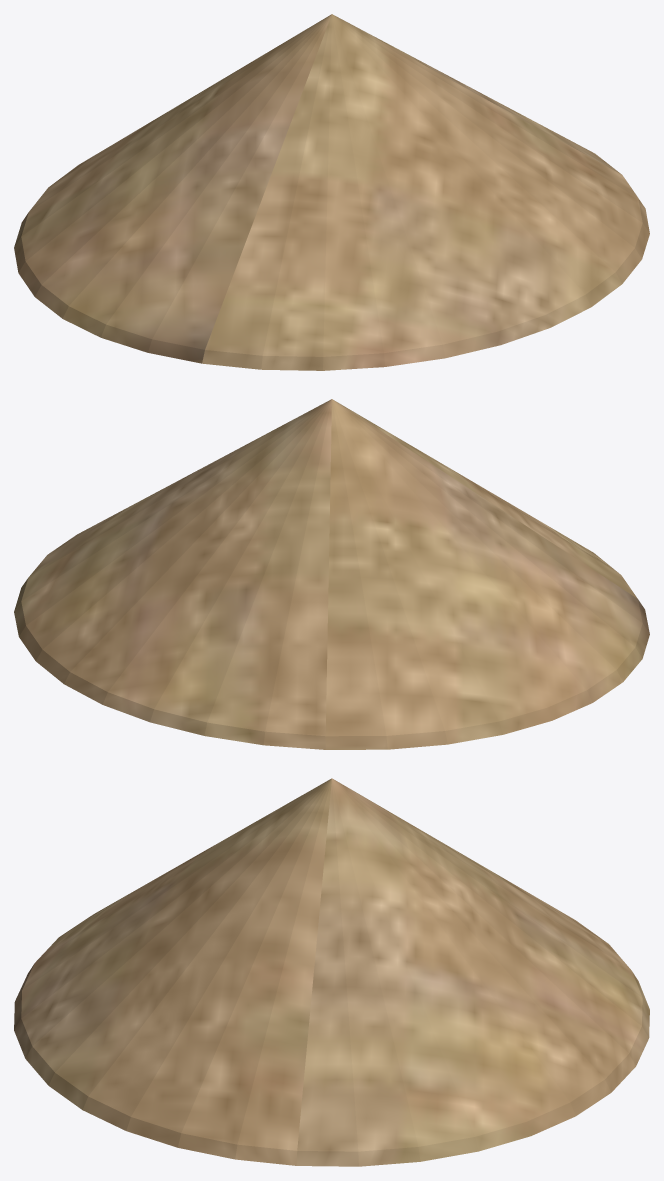
Rendered from capil.fbx.
3 renders of one model, top to bottom at view 1: azimuth 30°, elevation 25°; view 2: azimuth 150°, elevation 25°; view 3: azimuth 270°, elevation 25°, orthographic. The views are drawn at different scales.
Parts seen in each view (by area): view 1: capill; view 2: capill; view 3: capill.
Part boxes in pixels (x1,y1,x2,y2): capill: [14, 14, 649, 370]; capill: [14, 399, 649, 749]; capill: [14, 778, 649, 1166].
Size of the model in its own units: 58.28 by 22.39 by 53.38.
